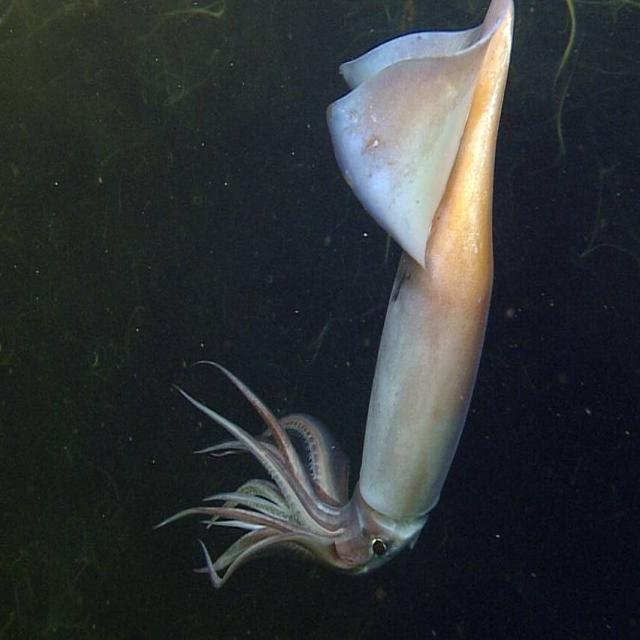SQUID: (148, 0, 524, 640)
